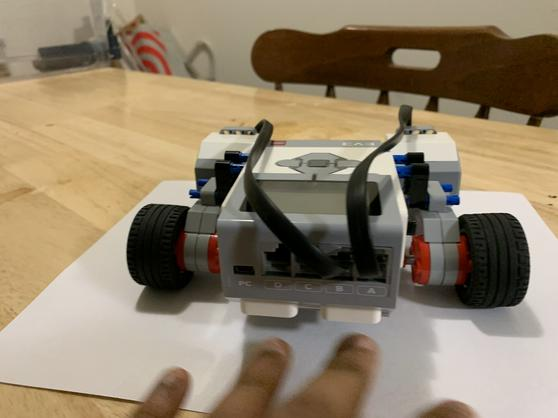robot: (109, 102, 545, 329)
